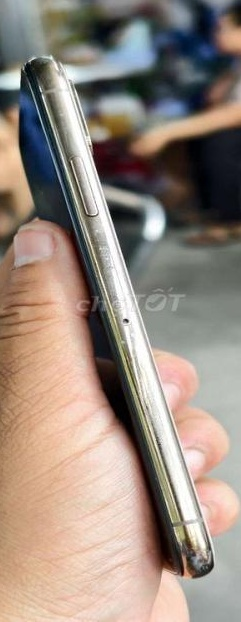scratch: (77, 216, 137, 336), (173, 544, 221, 575), (20, 45, 61, 74), (50, 101, 73, 133), (110, 333, 141, 356), (37, 183, 53, 204)
